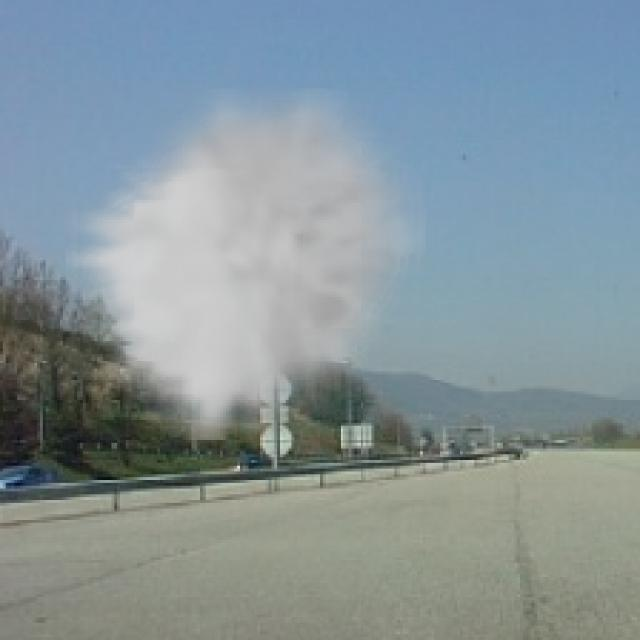smoke: (66, 89, 426, 440)
